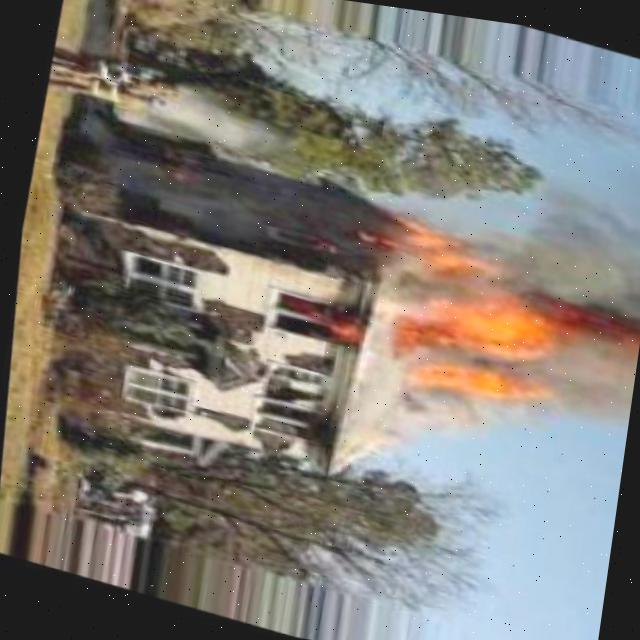fire: (393, 278, 563, 371), (386, 343, 550, 421), (382, 381, 506, 447), (395, 204, 505, 274)
